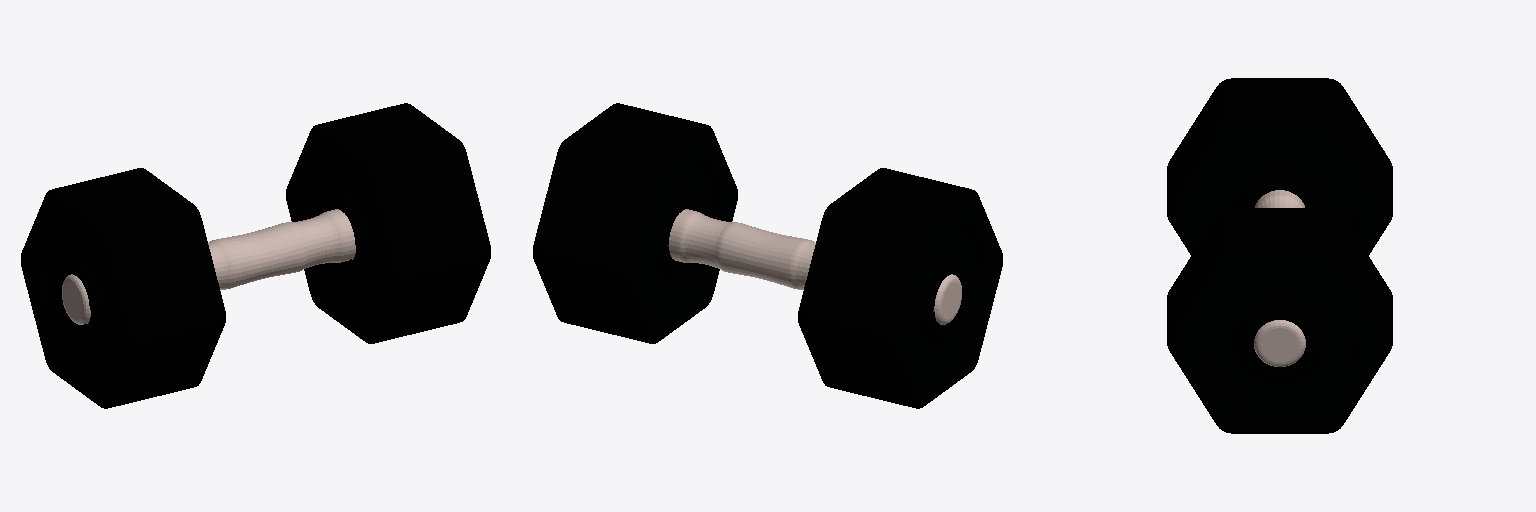
Rendered from Dumbbell.obj.
3 renders of one model, left to right at view 1: azimuth 30°, elevation 25°; view 2: azimuth 150°, elevation 25°; view 3: azimuth 270°, elevation 25°, orthographic.
Visible parts, largest first — view 1: Dumbbell; view 2: Dumbbell; view 3: Dumbbell.
Boxes of the visible parts, box(x1,y1,x2,y2) form: Dumbbell: box(21, 103, 490, 408); Dumbbell: box(533, 103, 1002, 408); Dumbbell: box(1167, 78, 1392, 433).
Size of the model in its own units: 0.2789 by 0.1324 by 0.1488.